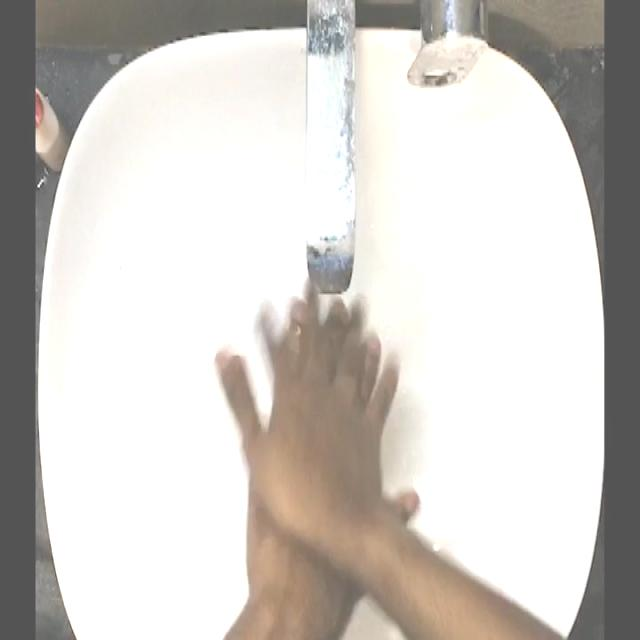step_2: (209, 268, 419, 582)
